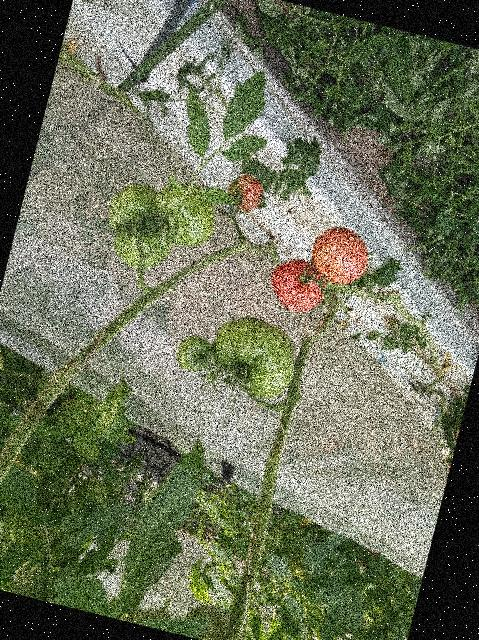b_fully_ripened: (304, 221, 374, 291), (263, 253, 331, 318)
b_green: (201, 308, 305, 404), (144, 175, 222, 253), (106, 213, 177, 275), (102, 177, 163, 239), (172, 331, 215, 375)
b_half_ripened: (222, 170, 266, 214)
